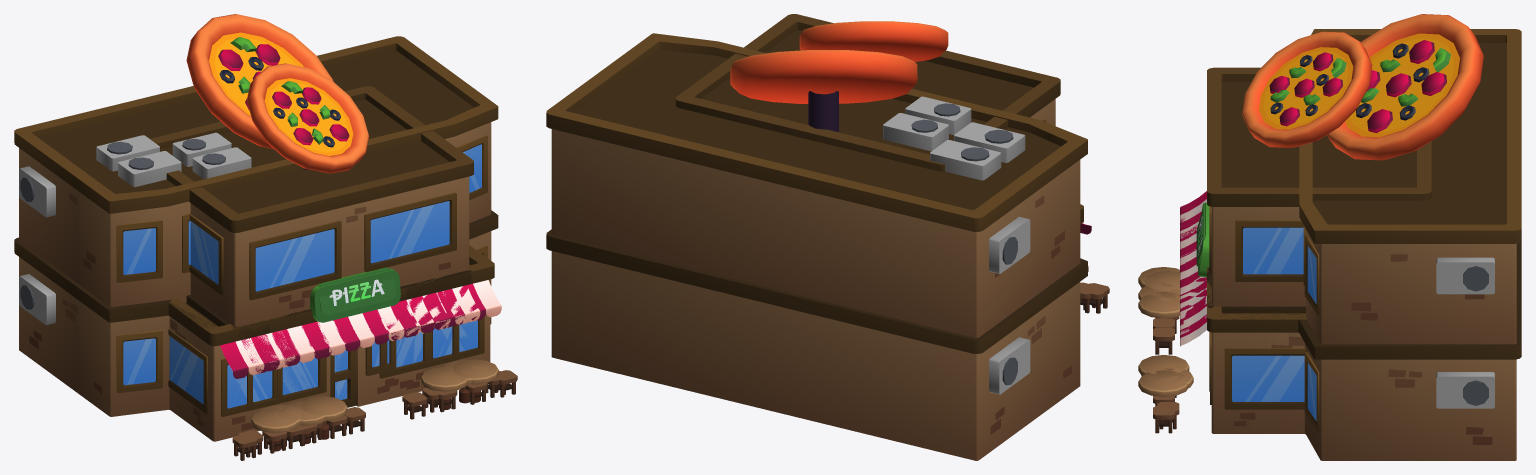
File: Pizza.fbx
3 renders of one model, left to right at view 1: azimuth 30°, elevation 25°; view 2: azimuth 150°, elevation 25°; view 3: azimuth 270°, elevation 25°, orthographic. The views are drawn at different scales.
Visible parts, largest first — view 1: Store Pizza Level 5, Store Pizza Level 4, Store Pizza Level 3, Store Pizza Level 2, Store Pizza Level 1; view 2: Store Pizza Level 5, Store Pizza Level 4; view 3: Store Pizza Level 5, Store Pizza Level 4, Store Pizza Level 3, Store Pizza Level 2, Store Pizza Level 1.
Boxes of the visible parts, <box> form: Store Pizza Level 5: <box>14,14,517,460</box>; Store Pizza Level 4: <box>150,63,487,453</box>; Store Pizza Level 3: <box>168,245,505,457</box>; Store Pizza Level 2: <box>264,282,449,449</box>; Store Pizza Level 1: <box>299,267,416,407</box>; Store Pizza Level 5: <box>546,33,1109,460</box>; Store Pizza Level 4: <box>675,14,1060,171</box>; Store Pizza Level 5: <box>1138,14,1521,460</box>; Store Pizza Level 4: <box>1138,31,1431,406</box>; Store Pizza Level 3: <box>1144,191,1306,433</box>; Store Pizza Level 2: <box>1138,225,1209,354</box>; Store Pizza Level 1: <box>1180,202,1209,295</box>.
Bounding box in the file's own units: 1923 × 1400 × 1490.
